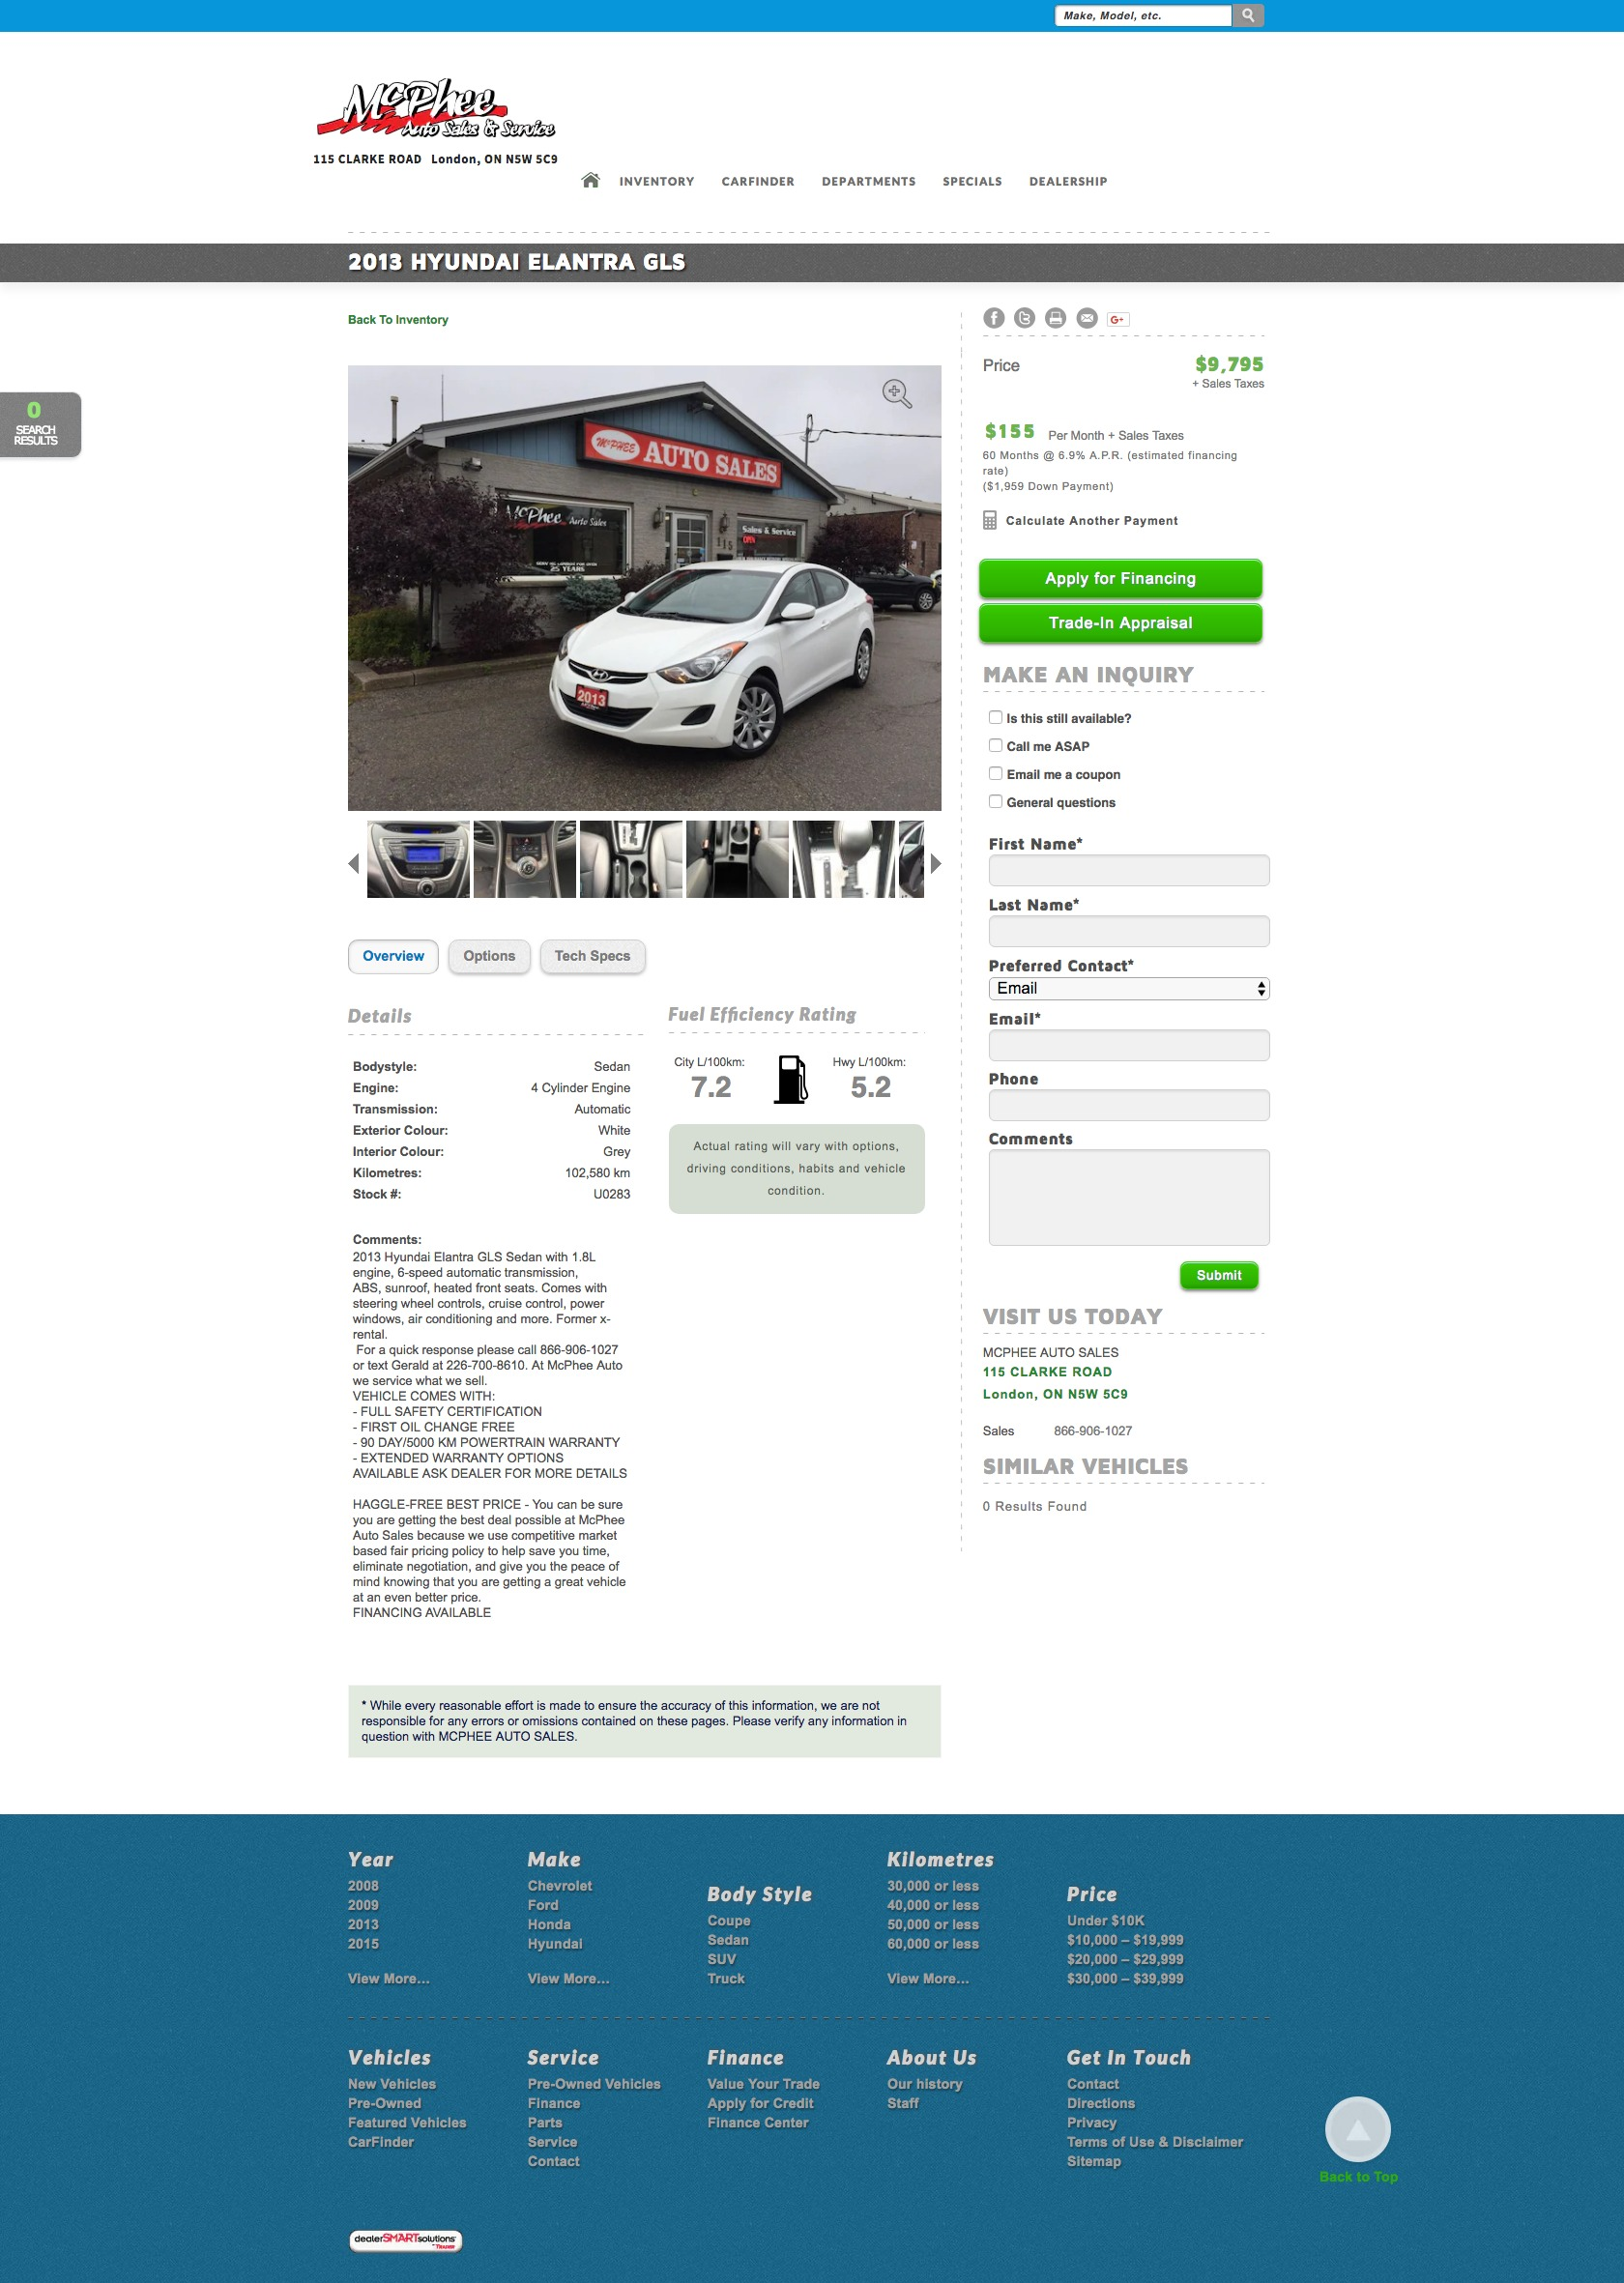car: (932, 852, 942, 875)
